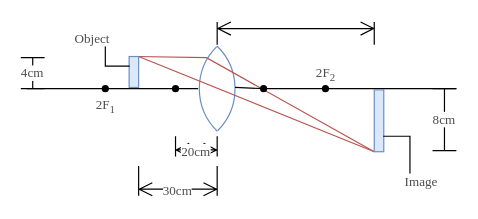
Image size: 478x219. Some labels were removed from this diagram. The shapes that lost their labels are listed below. From the top down, each one's centre as x and y in pixels, then its label:
At (x=295, y=33): "v=60cm".
At (x=175, y=88): "F 1".
At (x=263, y=88): "F 2".
